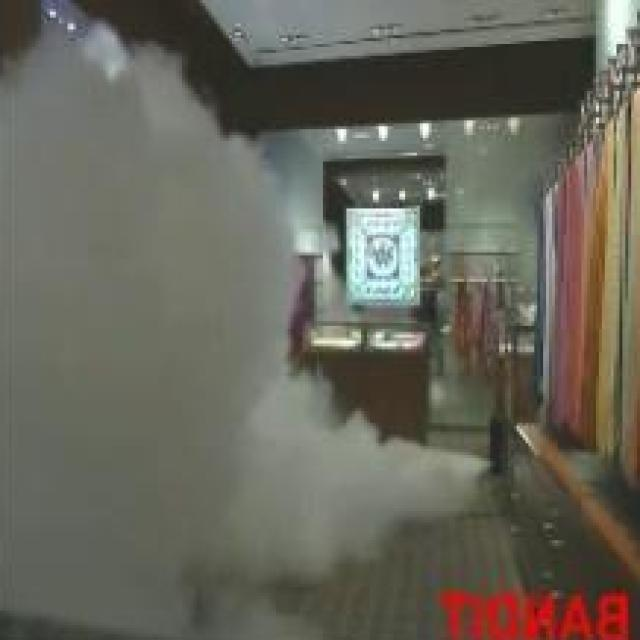fire: (0, 17, 303, 640), (230, 366, 498, 588)
